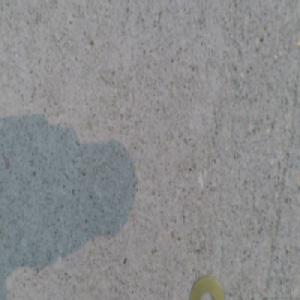Washer: (189, 274, 226, 299)
